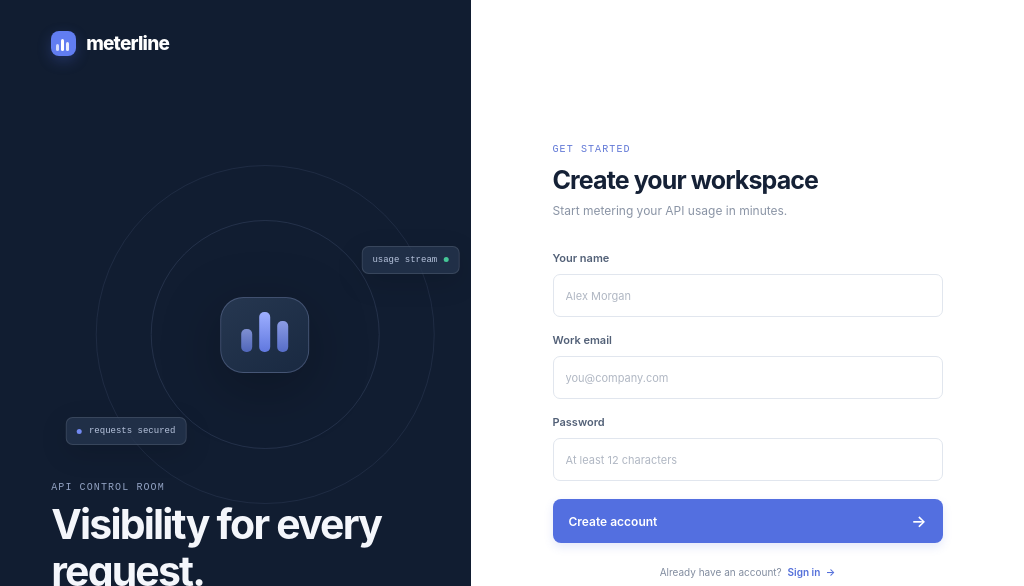
Test: authentication and protected routes › registers, signs in, and keeps credentials only in the live session
Step 1. Type "Sam Lee" into the field labelled "Your name" → (748, 296), box x1=552 y1=274 x2=942 y2=317
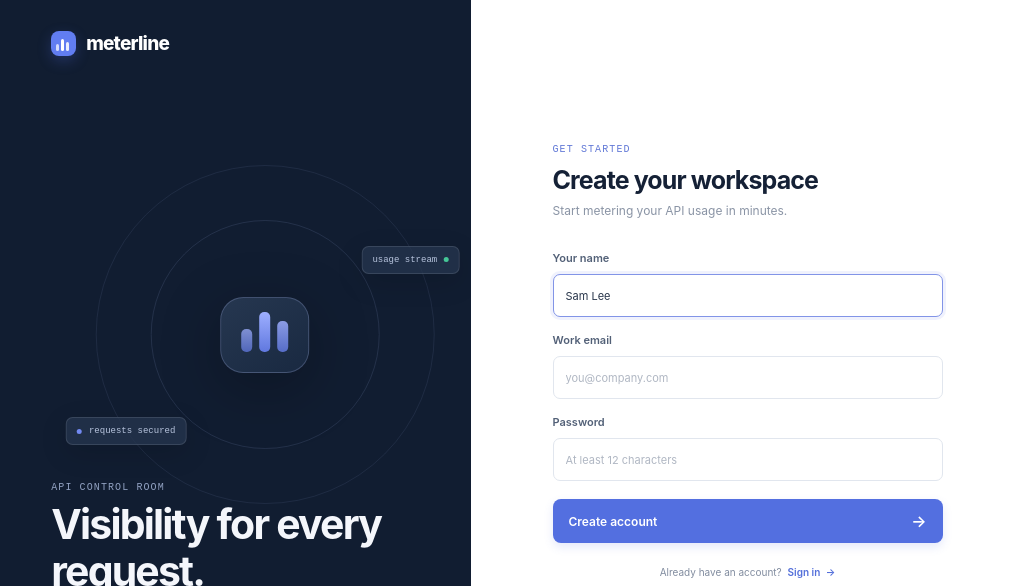
Step 2. Type "sam@example.test" into the field labelled "Work email" → (748, 378), box x1=552 y1=356 x2=942 y2=399
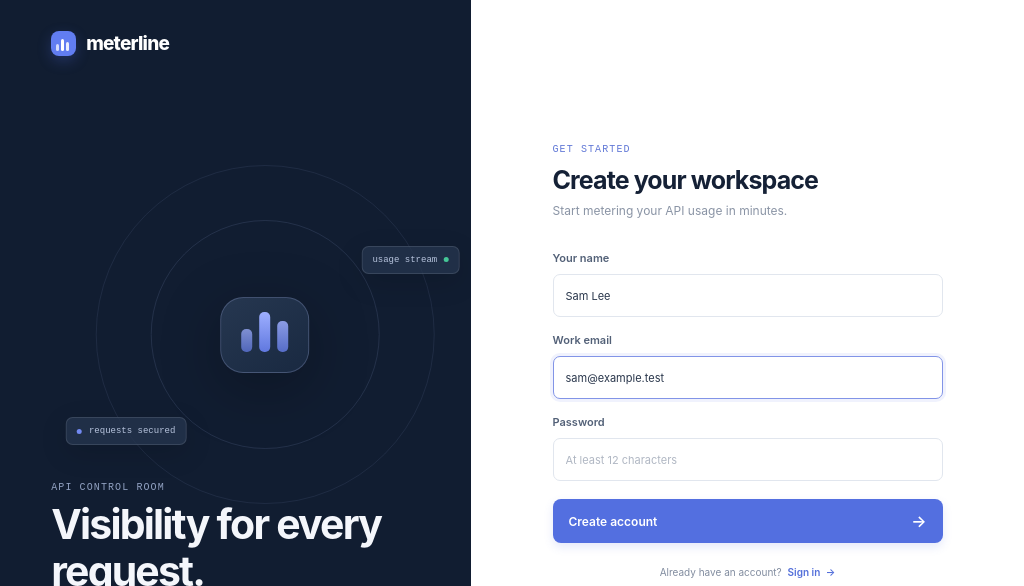
Step 3. Type "long-enough-password" into the password field labelled "Password" → (748, 460), box x1=552 y1=438 x2=942 y2=481
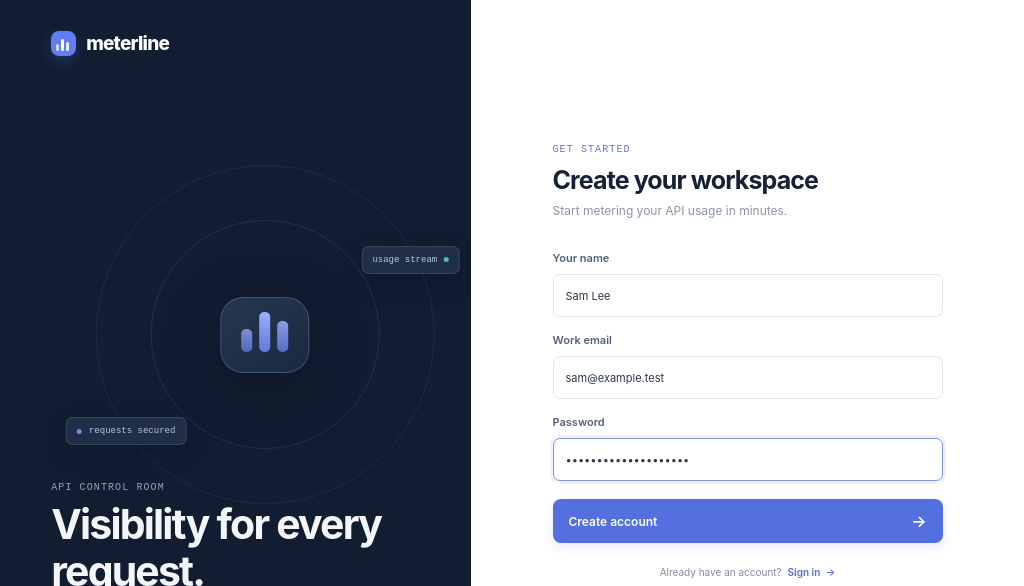
Step 4. Click the button "Create account →" → (613, 521), box x1=552 y1=499 x2=942 y2=543
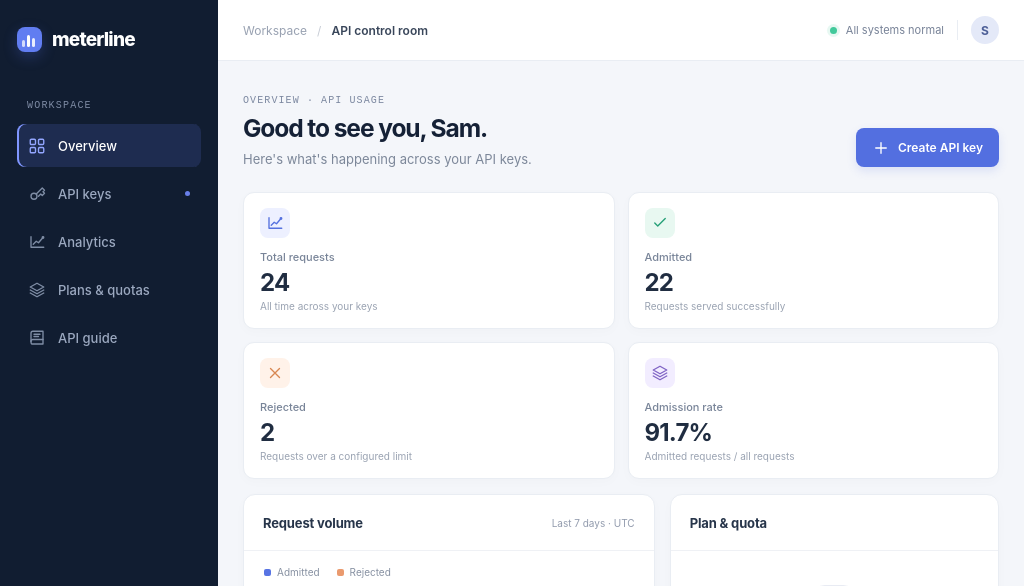
Expected: the text "24" is shown, x1=260 y1=268 x2=289 y2=298
